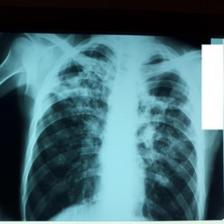tuberculosis: (24, 33, 204, 221)
